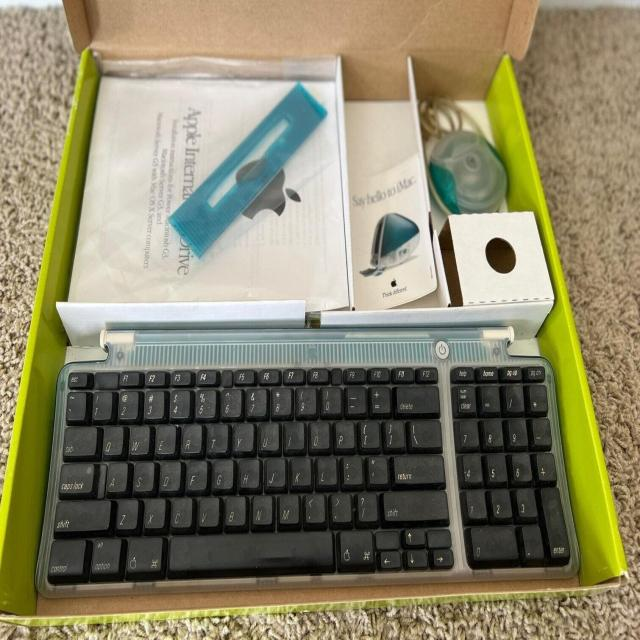keyboard: (35, 359, 581, 592)
